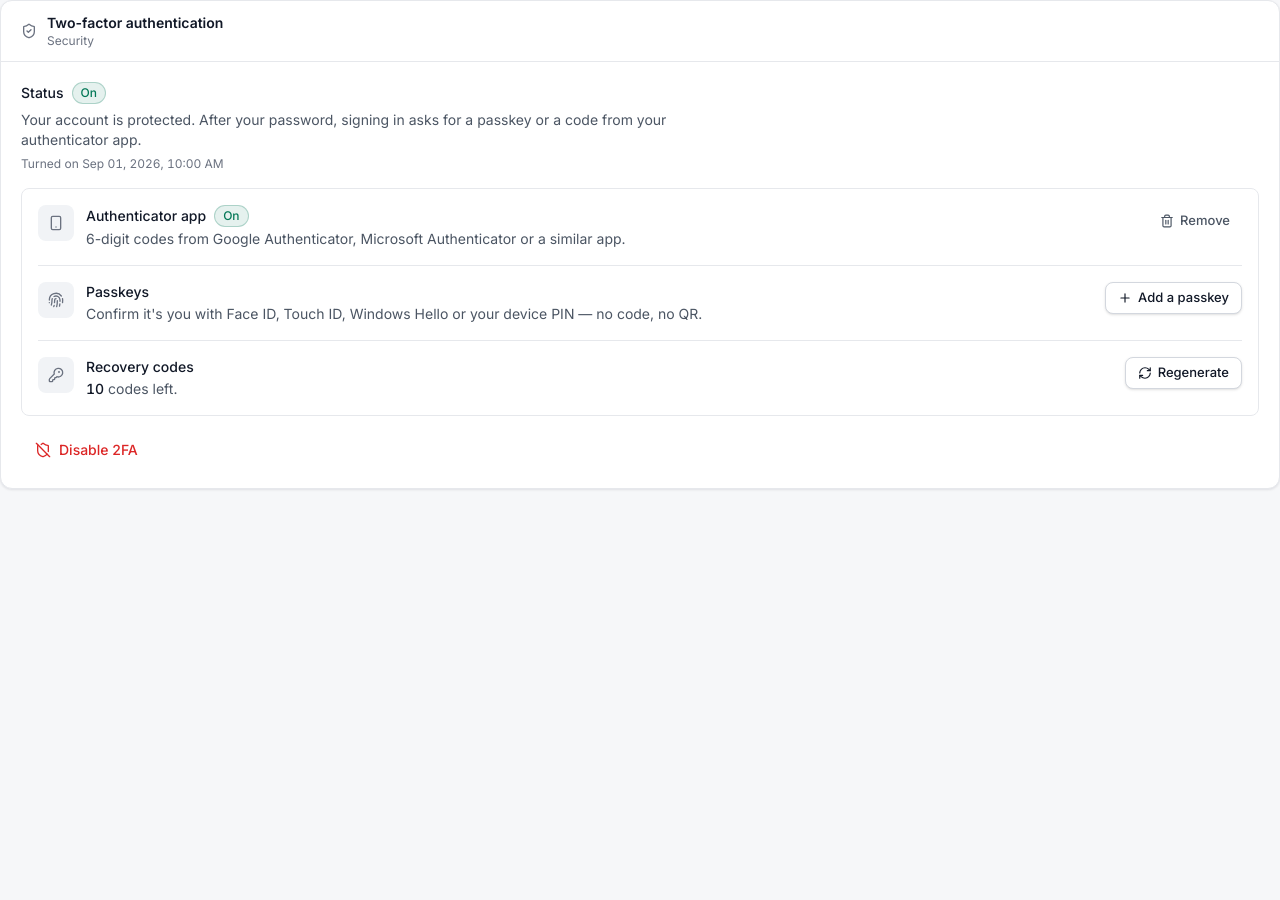
Test: TwoFactorPanel › disabling with an authenticator code reports a wrong password
Click the button "Disable 2FA" at x=86, y=450, box [21, 432, 152, 468]
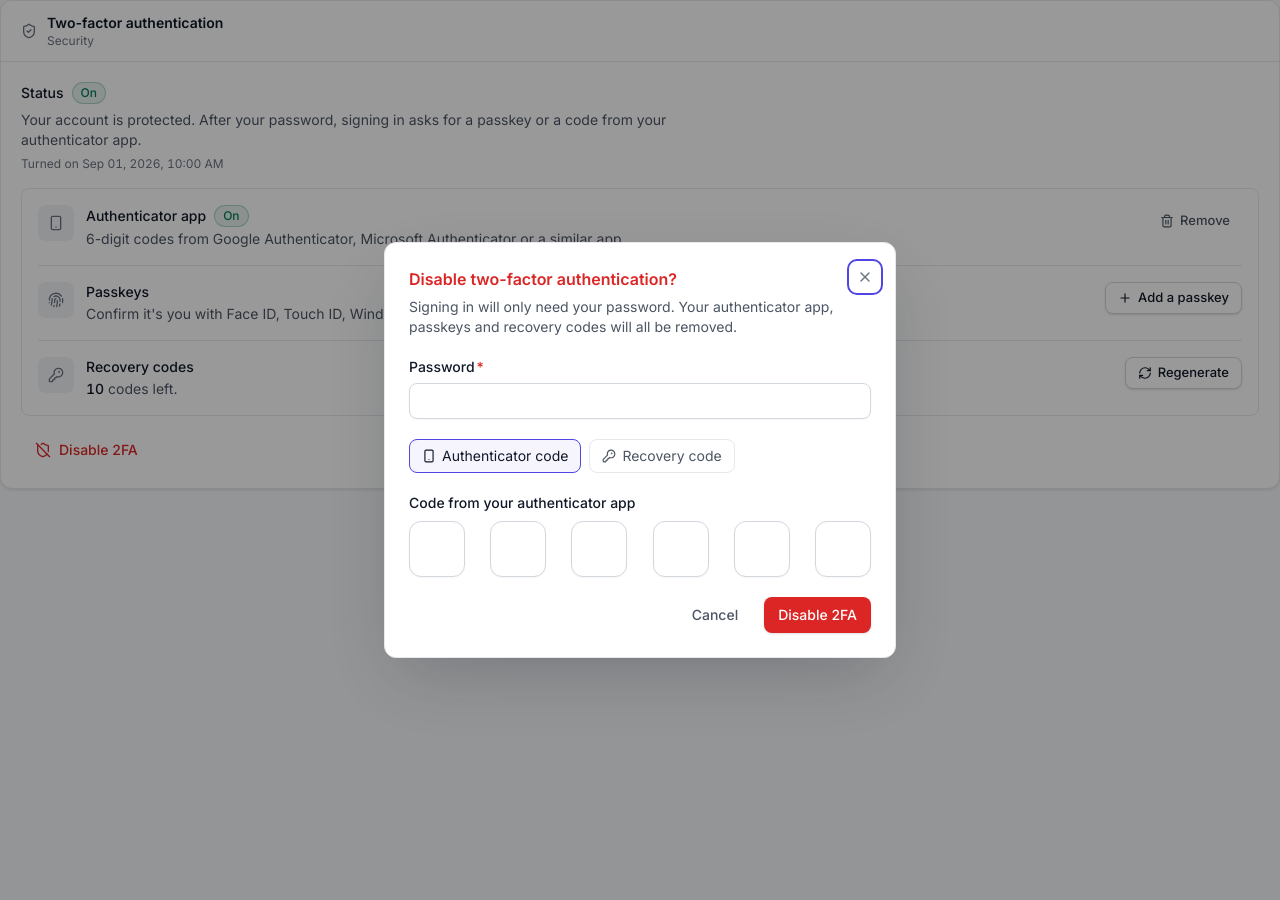
Type "wrong-password" into the password field labelled "Password*" at x=640, y=401, box [409, 383, 871, 419]
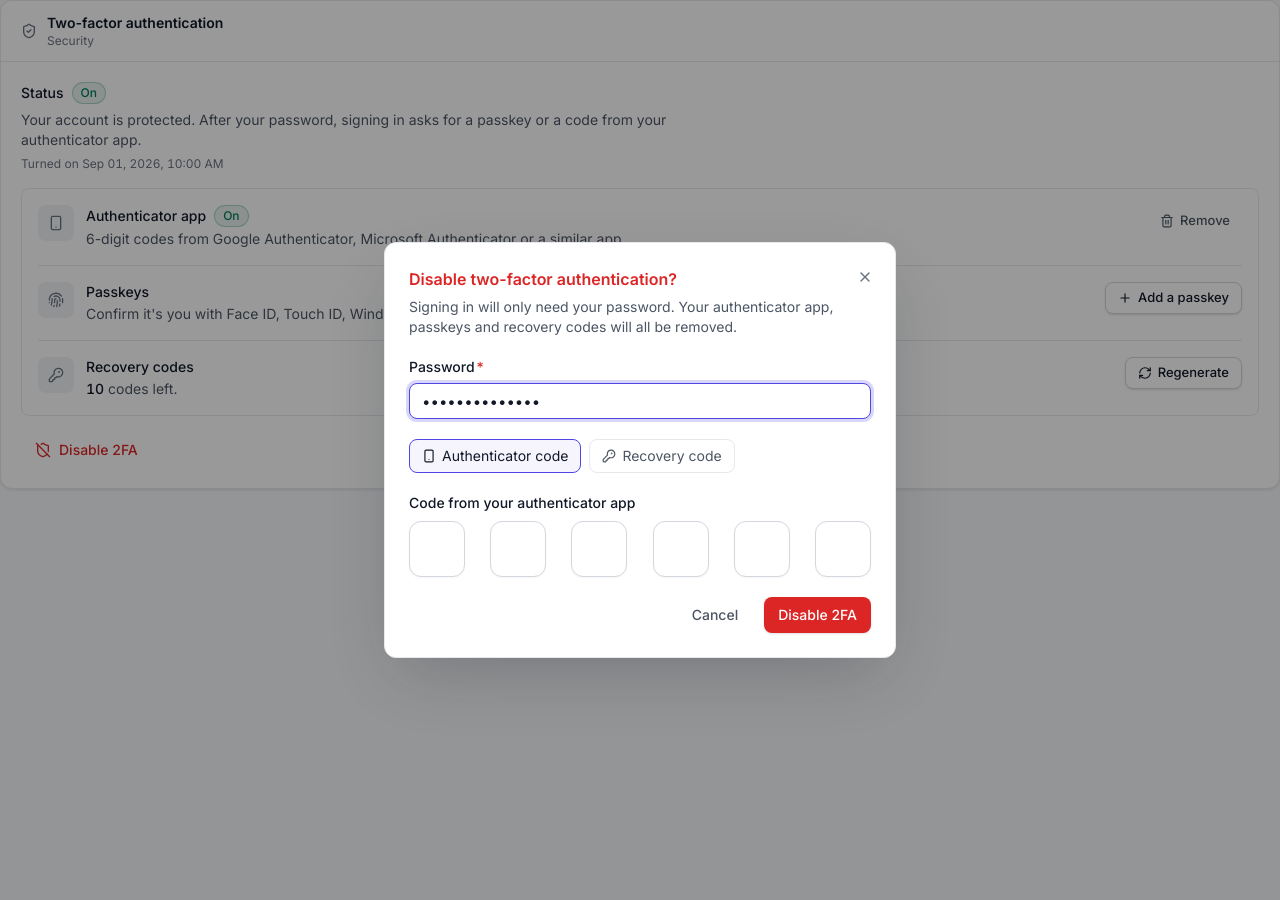
Click the field named "digit 1 of 6" at x=437, y=549, box [409, 521, 465, 577]
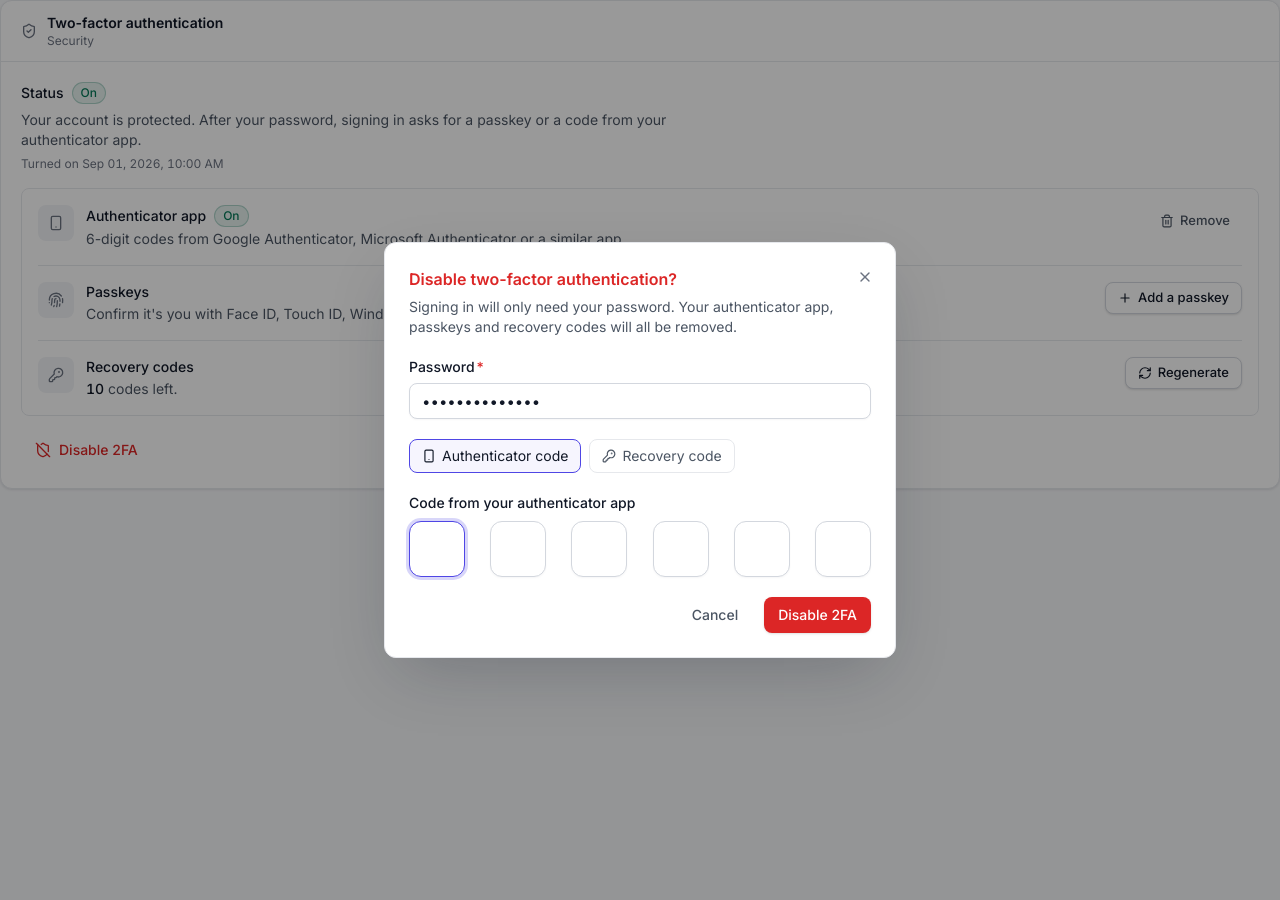
Type keys "123456"
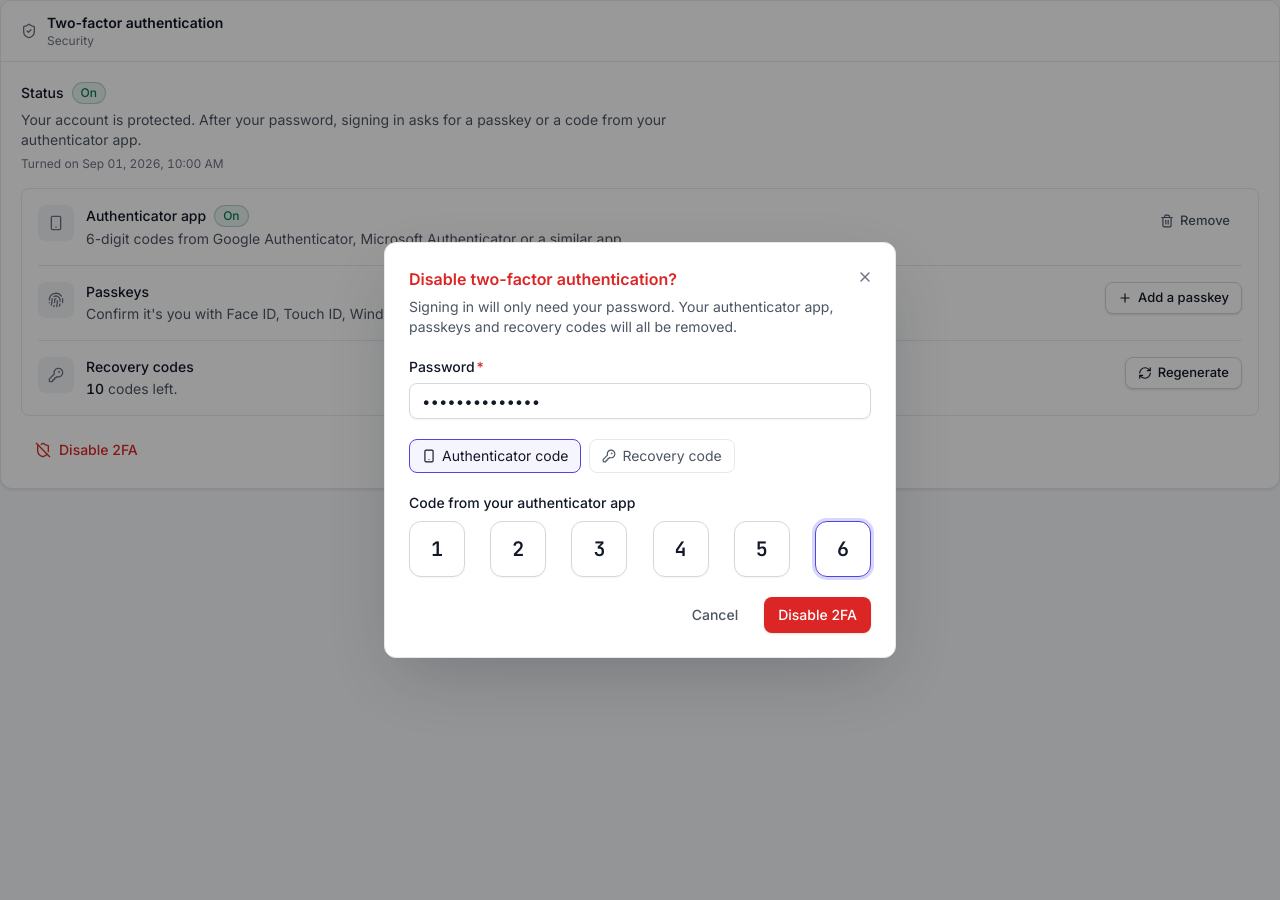
Click the button "Disable 2FA" at x=818, y=615, box [764, 597, 871, 633]
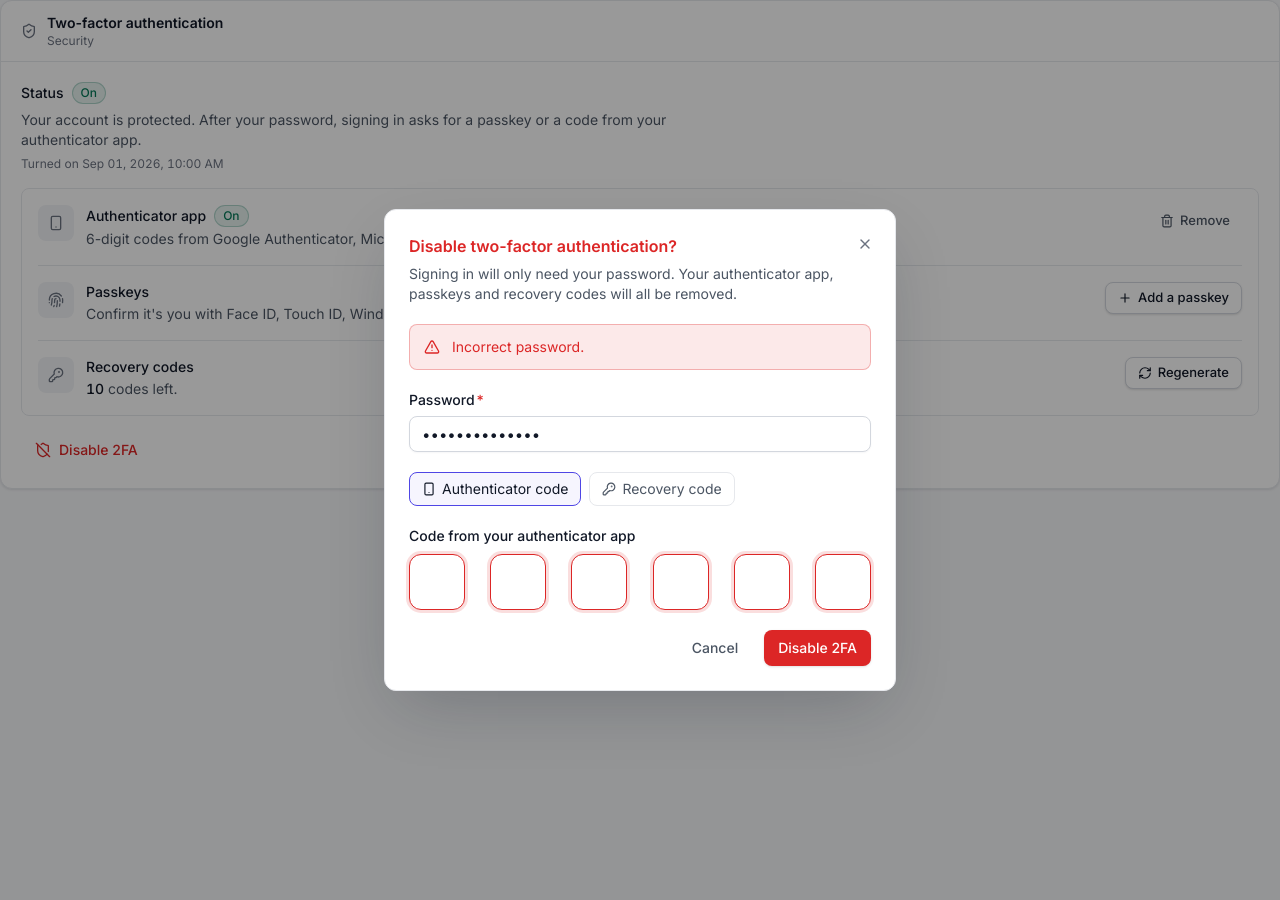
Result: the message reads "Incorrect password." at [452, 338, 584, 355]
